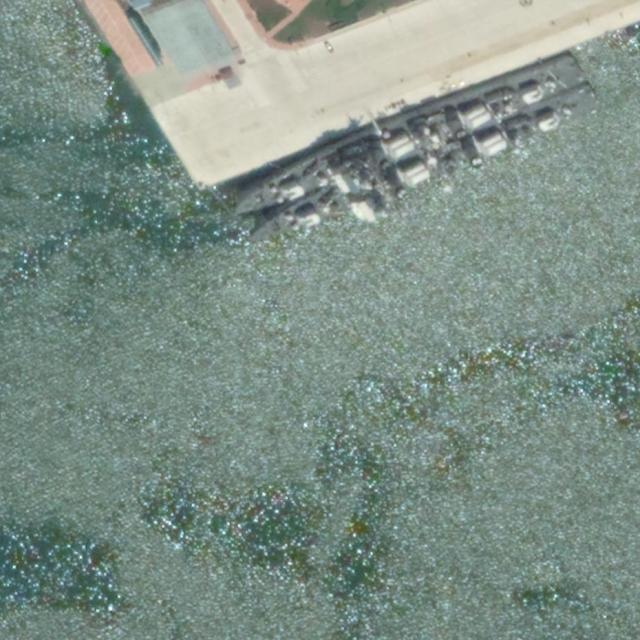Destroyer: (224, 45, 590, 222), (239, 82, 603, 253)
